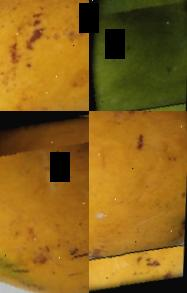Ripe: (89, 111, 187, 293), (0, 111, 89, 293), (0, 0, 89, 111)
Unripe: (89, 0, 187, 111)
